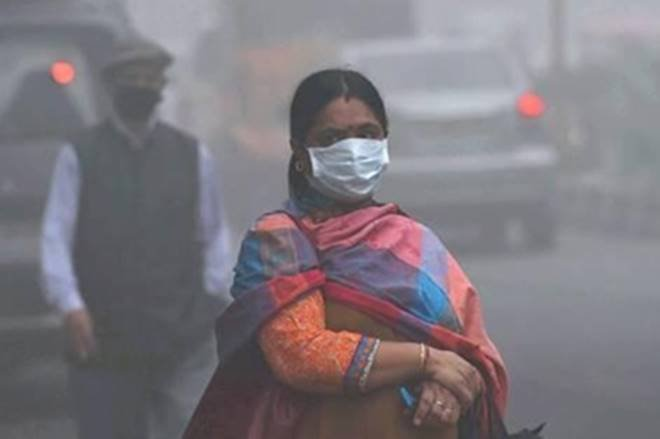mask: (283, 73, 412, 227)
